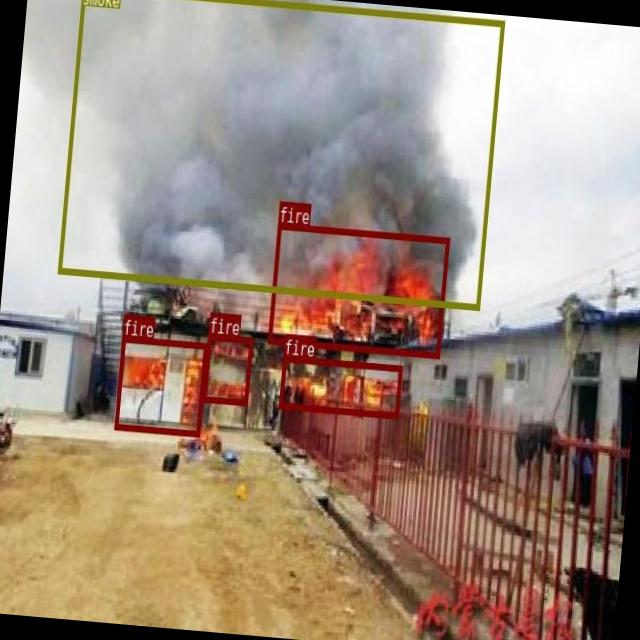fire: (267, 222, 449, 358), (114, 335, 206, 436), (278, 355, 402, 418), (202, 332, 252, 405)
smoke: (57, 0, 503, 308)
